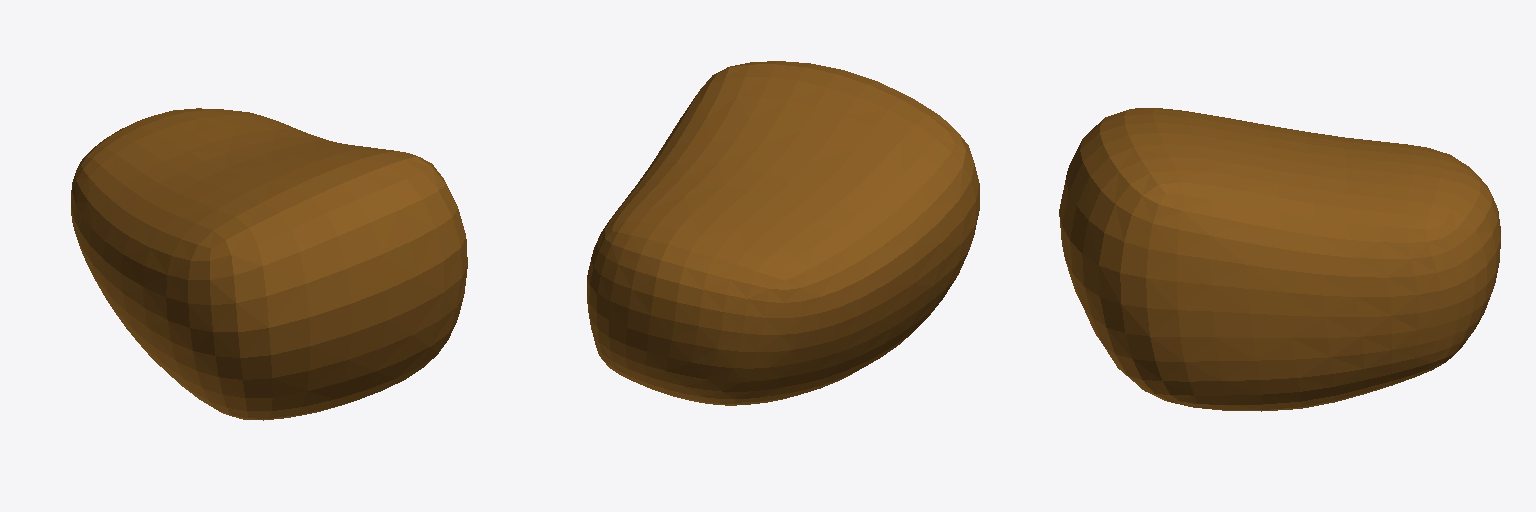
The model's file is fing5_3.obj.
The picture shows the model from 3 angles: view 1: azimuth 30°, elevation 25°; view 2: azimuth 150°, elevation 25°; view 3: azimuth 270°, elevation 25°; orthographic projection.
Parts seen in each view (by area): view 1: f5o3; view 2: f5o3; view 3: f5o3.
Part boxes in pixels (x1,y1,x2,y2): f5o3: (71, 108, 467, 420); f5o3: (587, 61, 979, 405); f5o3: (1059, 108, 1500, 411).
Bounding box in the file's own units: 0.6626 × 0.557 × 0.8819.